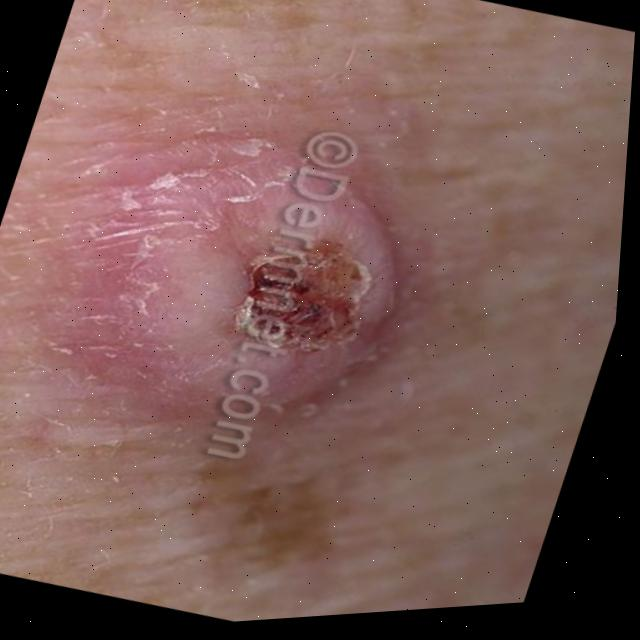Eczema: (181, 155, 417, 409)
